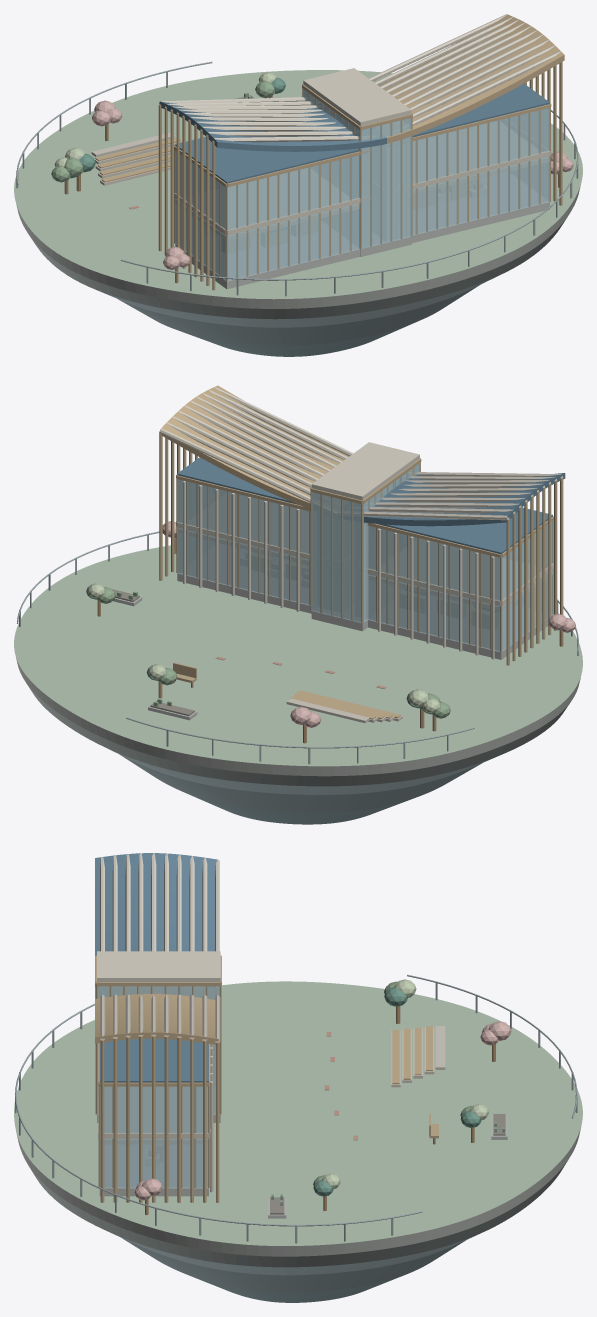
File: H_R21_policy_landmark.glb
3 views of the same model, one above another, from view 1: azimuth 30°, elevation 25°; view 2: azimuth 150°, elevation 25°; view 3: azimuth 270°, elevation 25° (orthographic). The views are drawn at different scales.
Visible parts, largest first — view 1: grass, eduGlass, eduAmber, eduCream, stone2, eduBlue, cliff3, cliff2, cliff, metal, cliff_dark, paveLight (+2 smaller); view 2: grass, eduGlass, eduCream, eduAmber, stone2, eduBlue, cliff3, cliff2, cliff, metal, cliff_dark, flower (+3 smaller); view 3: grass, eduAmber, eduCream, eduBlue, eduGlass, stone2, cliff3, cliff2, metal, cliff, paveLight, cliff_dark (+3 smaller).
Part boxes in pixels (x1,y1,x2,y2): grass: [14, 70, 582, 299]; eduGlass: [174, 89, 549, 280]; eduAmber: [95, 14, 564, 290]; eduCream: [159, 14, 560, 240]; stone2: [16, 186, 580, 308]; eduBlue: [160, 83, 549, 183]; cliff3: [31, 217, 567, 319]; cliff2: [118, 285, 479, 345]; cliff: [100, 276, 497, 327]; metal: [16, 61, 578, 296]; cliff_dark: [182, 322, 415, 356]; paveLight: [91, 132, 182, 185]; grass: [14, 545, 582, 766]; eduGlass: [177, 463, 553, 651]; eduCream: [159, 387, 562, 659]; eduAmber: [159, 385, 563, 719]; stone2: [16, 573, 580, 776]; eduBlue: [177, 457, 565, 554]; cliff3: [26, 683, 570, 786]; cliff2: [120, 755, 482, 813]; cliff: [111, 750, 495, 794]; metal: [17, 531, 579, 764]; cliff_dark: [187, 793, 410, 824]; flower: [162, 521, 575, 727]; grass: [14, 981, 582, 1245]; eduAmber: [95, 955, 432, 1202]; eduCream: [97, 853, 220, 1192]; eduBlue: [95, 853, 217, 1082]; eduGlass: [97, 986, 219, 1187]; stone2: [16, 1114, 580, 1256]; cliff3: [29, 1161, 567, 1267]; cliff2: [122, 1238, 465, 1292]; metal: [15, 974, 577, 1243]; cliff: [115, 1234, 476, 1275]; paveLight: [391, 1026, 445, 1087]; cliff_dark: [194, 1276, 400, 1302].
Bounding box in the file's own units: 32.66 × 17.99 × 29.67.
